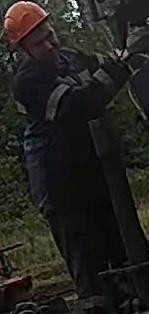gloves: (107, 24, 148, 79)
helmet: (0, 0, 50, 50)
vest: (11, 60, 129, 218)
